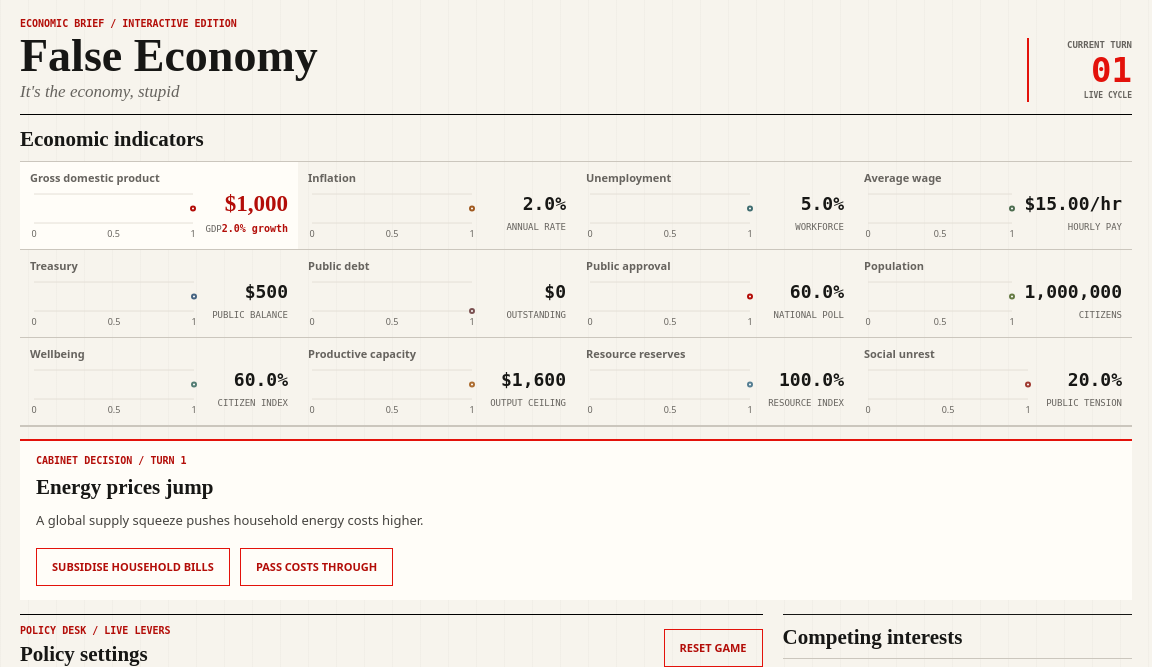
Test: Economy Simulator interface › shows event decision errors from the server
The image size is (1152, 667).
Expected: the heading "Energy prices jump" is shown, [36,475,213,499]
Click the button "subsidise household bills": (133, 567) [36,548,230,586]
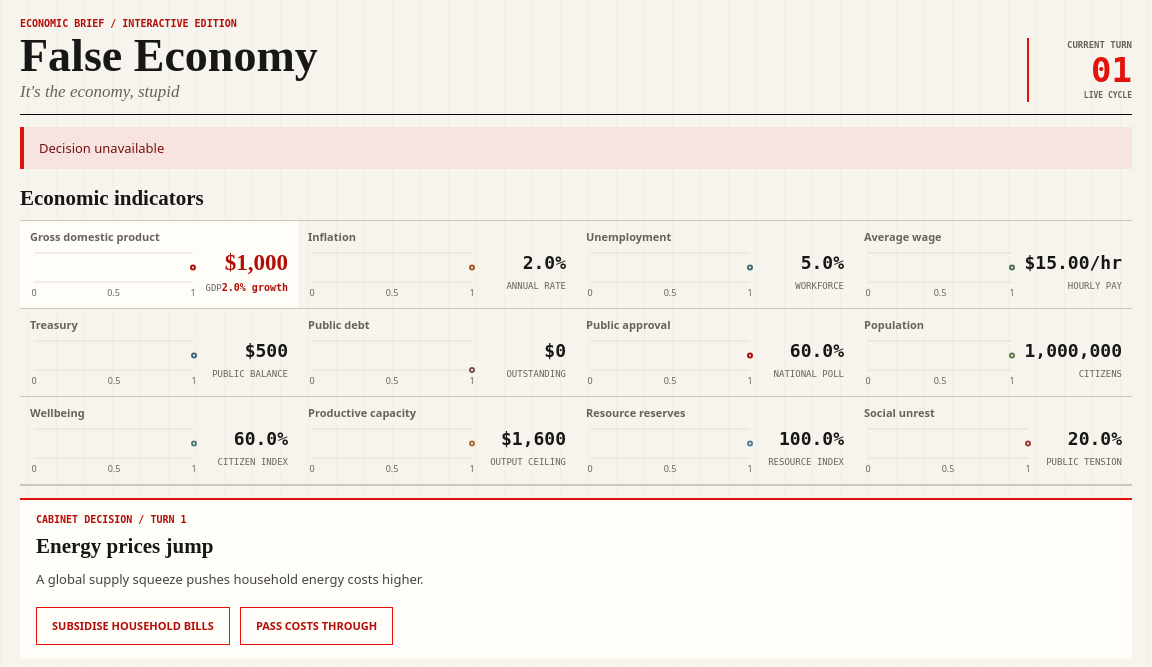
Result: the message reads "Decision unavailable" at [39,140,164,158]
